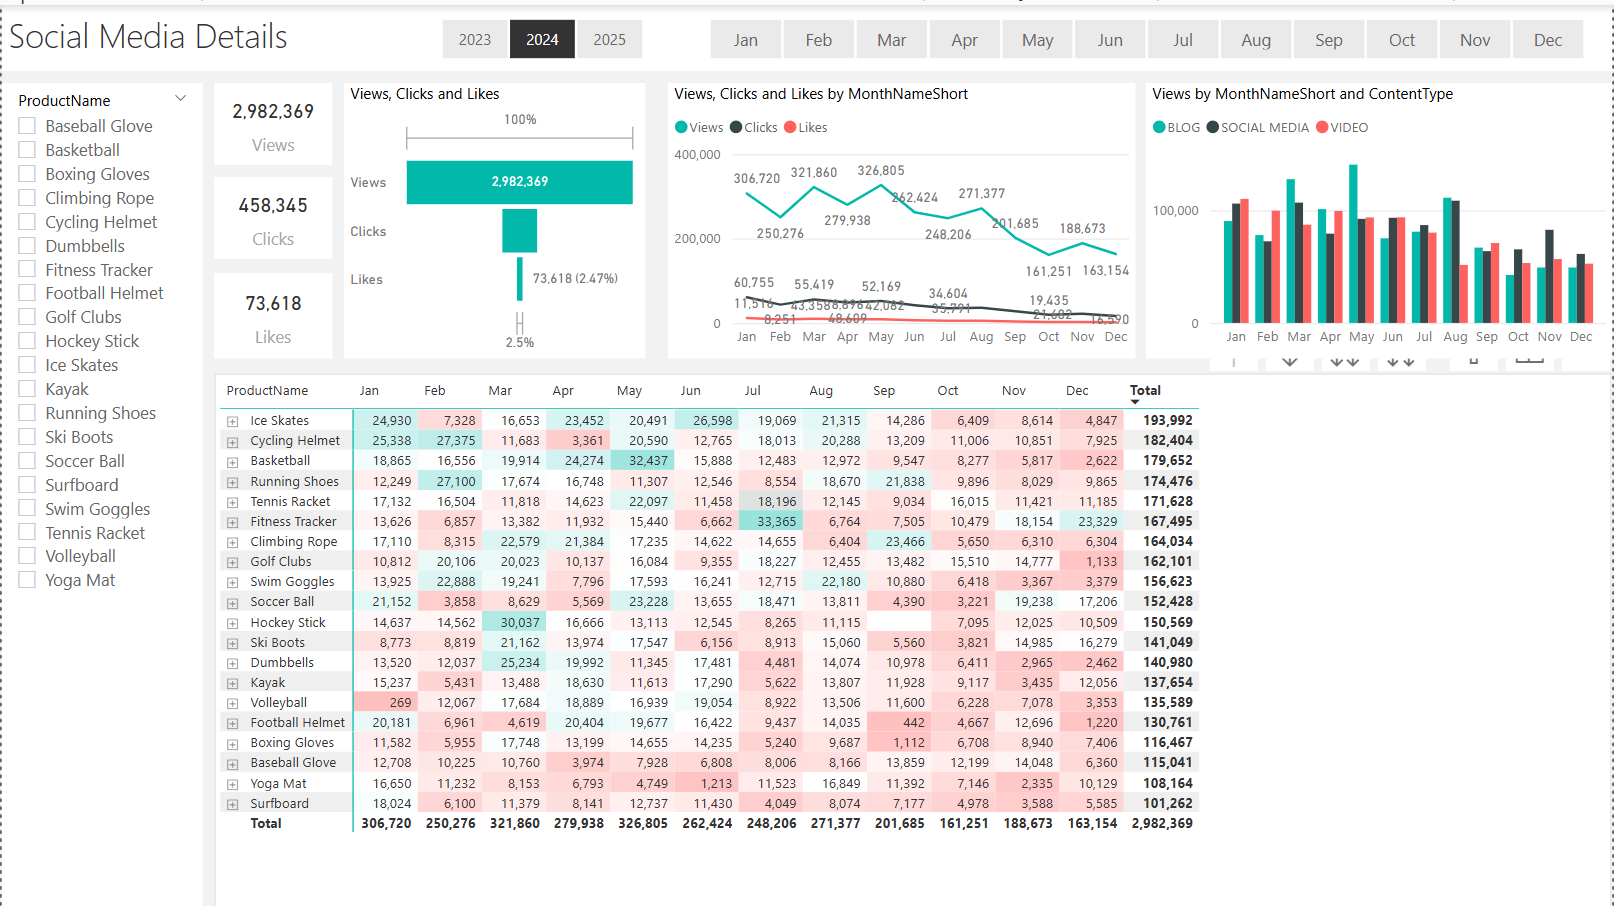

Layout of this report page (visuals, bound fields, positions):
{"tool":"powerbi","page":{"name":"Social Media Details","canvas":[1280,720],"ordinal":2},"visuals":[{"type":"textbox","box":[0,0,1280,52.6],"z":0},{"type":"slicer","fields":{"Values":["dim_products.ProductName"]},"box":[0,61.6,159.5,658.5],"z":1000},{"type":"lineChart","fields":{"Y":["_Calculations.Views","_Calculations.Clicks","_Calculations.Likes"],"Category":["Calendar.MonthNameShort"]},"box":[528.5,61.9,371.6,218.8],"z":2000},{"type":"funnel","fields":{"Y":["_Calculations.Views","_Calculations.Clicks","_Calculations.Likes"]},"box":[272.5,61.9,239.5,218.8],"z":3000},{"type":"card","fields":{"Values":["_Calculations.Views"]},"box":[168.3,61.9,93.9,65],"z":4000},{"type":"card","fields":{"Values":["_Calculations.Clicks"]},"box":[168.3,137.3,93.9,65],"z":5000},{"type":"card","fields":{"Values":["_Calculations.Likes"]},"box":[168.3,212.6,93.9,68.1],"z":6000},{"type":"slicer","fields":{"Values":["Calendar.MonthNameShort"]},"box":[536.8,4.1,743.2,44.4],"z":7000},{"type":"slicer","fields":{"Values":["Calendar.Year"]},"box":[324.1,4.1,208.5,44.4],"z":8000},{"type":"pivotTable","fields":{"Rows":["dim_products.ProductName","fact_engagement.ContentType"],"Values":["_Calculations.Views"],"Columns":["Calendar.MonthNameShort"]},"box":[168.3,292.1,1110.7,428.4],"z":9000},{"type":"clusteredColumnChart","fields":{"Category":["Calendar.MonthNameShort"],"Series":["fact_engagement.ContentType"],"Y":["_Calculations.Views"]},"box":[908.4,61.9,370.6,218.8],"z":10000}]}

Visuals, with their boxes in screenshot pixels (x1, y1, x2, y2), scaled from the page's 1280x720 canvas onto the 1614x906 screenshot:
textbox: <bbox>0, 0, 1613, 66</bbox>
slicer - dim_products.ProductName: <bbox>0, 78, 201, 905</bbox>
lineChart - _Calculations.Views x _Calculations.Clicks: <bbox>666, 78, 1135, 353</bbox>
funnel - _Calculations.Views x _Calculations.Clicks: <bbox>344, 78, 646, 353</bbox>
card - _Calculations.Views: <bbox>212, 78, 331, 160</bbox>
card - _Calculations.Clicks: <bbox>212, 173, 331, 255</bbox>
card - _Calculations.Likes: <bbox>212, 268, 331, 353</bbox>
slicer - Calendar.MonthNameShort: <bbox>677, 5, 1613, 61</bbox>
slicer - Calendar.Year: <bbox>409, 5, 672, 61</bbox>
pivotTable - dim_products.ProductName x fact_engagement.ContentType: <bbox>212, 368, 1613, 905</bbox>
clusteredColumnChart - Calendar.MonthNameShort x fact_engagement.ContentType: <bbox>1145, 78, 1613, 353</bbox>
